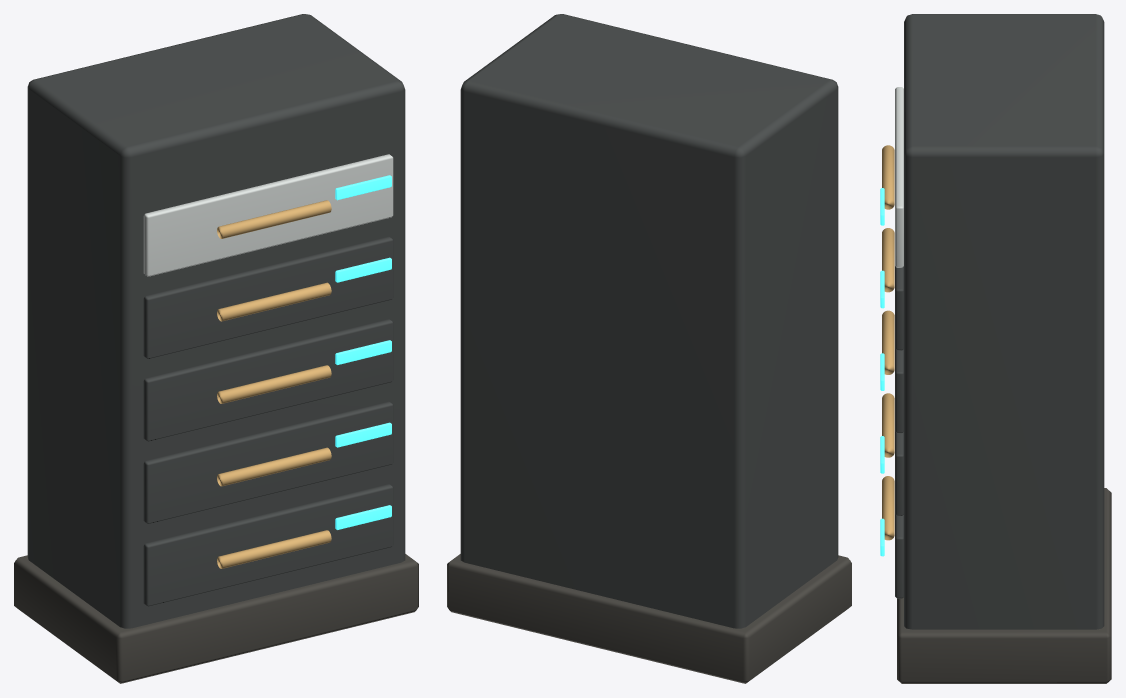
Rendered from hp_furniture_archive_cabinet_v1.glb.
3 renders of one model, left to right at view 1: azimuth 30°, elevation 25°; view 2: azimuth 150°, elevation 25°; view 3: azimuth 270°, elevation 25°, orthographic.
Visible parts, largest first — view 1: archive_cabinet_body, stone_toe_base, drawer_face.003, drawer_face.004, drawer_face, drawer_face.001, drawer_face.002, drawer_brass_pull.003, drawer_brass_pull.004, drawer_brass_pull.001, drawer_brass_pull.002, drawer_brass_pull (+5 smaller); view 2: archive_cabinet_body, stone_toe_base; view 3: archive_cabinet_body, stone_toe_base, drawer_face.004, drawer_brass_pull.001, drawer_brass_pull, drawer_brass_pull.002, drawer_brass_pull.003, drawer_brass_pull.004, drawer_face.002, drawer_face, drawer_face.001, drawer_face.003.
Part boxes in pixels (<box>): archive_cabinet_body: <box>27,14,405,628</box>; stone_toe_base: <box>14,554,418,683</box>; drawer_face.003: <box>143,236,393,359</box>; drawer_face.004: <box>143,154,393,276</box>; drawer_face: <box>143,484,393,606</box>; drawer_face.001: <box>143,401,393,523</box>; drawer_face.002: <box>143,319,393,441</box>; drawer_brass_pull.003: <box>217,282,331,321</box>; drawer_brass_pull.004: <box>217,200,331,238</box>; drawer_brass_pull.001: <box>217,447,331,486</box>; drawer_brass_pull.002: <box>217,365,331,403</box>; drawer_brass_pull: <box>217,530,331,568</box>; archive_cabinet_body: <box>460,14,838,628</box>; stone_toe_base: <box>447,554,851,683</box>; archive_cabinet_body: <box>904,14,1104,629</box>; stone_toe_base: <box>897,488,1111,683</box>; drawer_face.004: <box>895,87,903,267</box>; drawer_brass_pull.001: <box>882,393,894,457</box>; drawer_brass_pull: <box>882,476,894,540</box>; drawer_brass_pull.002: <box>882,310,894,374</box>; drawer_brass_pull.003: <box>882,228,894,292</box>; drawer_brass_pull.004: <box>882,145,894,209</box>; drawer_face.002: <box>895,349,903,433</box>; drawer_face: <box>895,514,903,598</box>; drawer_face.001: <box>895,431,903,515</box>; drawer_face.003: <box>895,266,903,350</box>.
Size of the model in its own units: 0.98 by 1.64 by 0.646.
